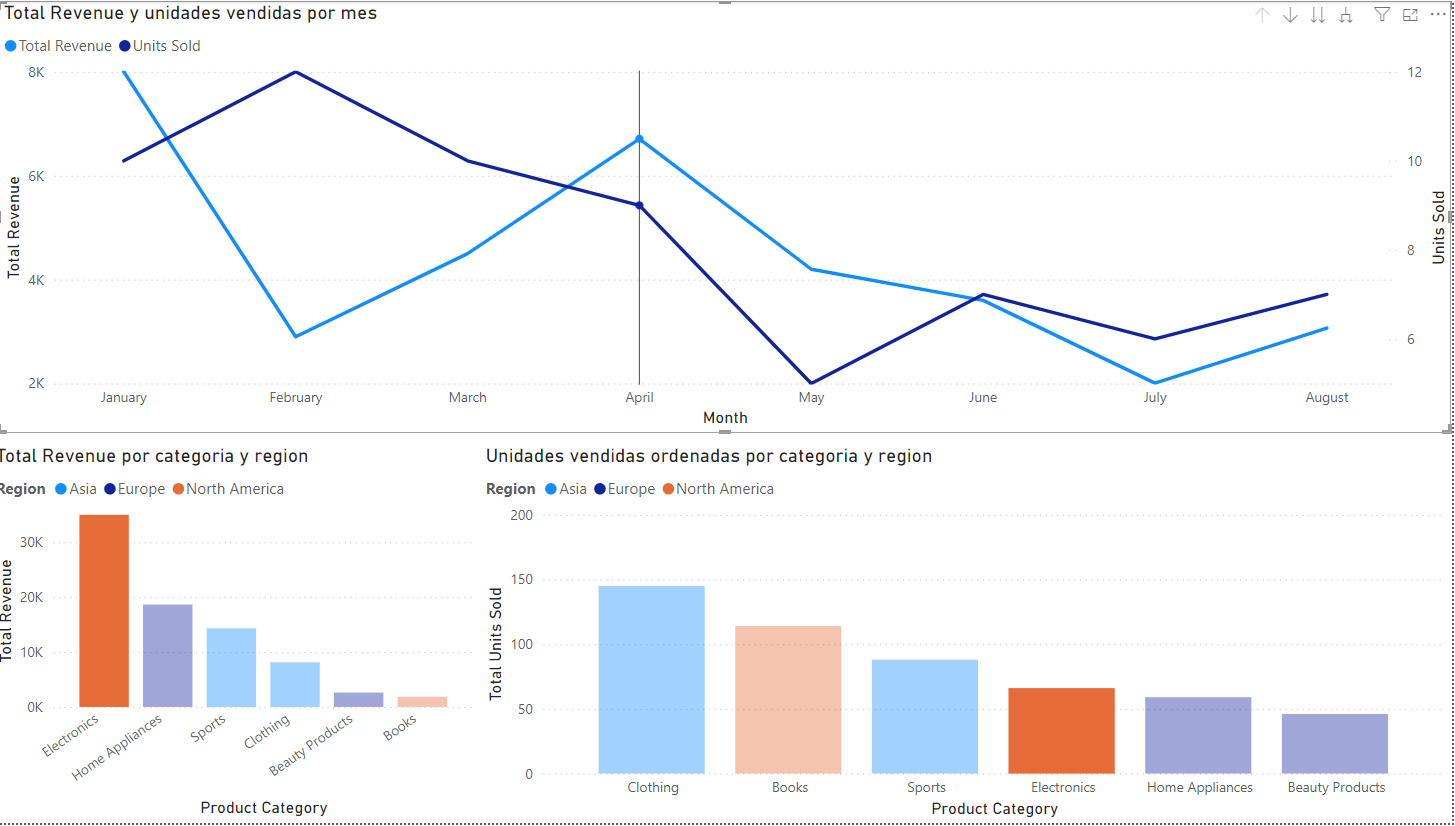

The page's visual inventory and layout, read from the dashboard file:
{"tool":"powerbi","page":{"name":"Page 1","canvas":[1280,720],"ordinal":0},"visuals":[{"type":"lineChart","title":"Total Revenue y unidades vendidas por mes","fields":{"Y":["Sum(Online Sales Data.Total Revenue)"],"Category":["Online Sales Data.Date.Variation.Date Hierarchy.Month","Online Sales Data.Date.Variation.Date Hierarchy.Day"],"Y2":["Sum(Online Sales Data.Units Sold)"]},"box":[6.8,0,1273.2,378.4],"z":0},{"type":"columnChart","title":"Total Revenue por categoria y region","fields":{"Category":["Online Sales Data.Product Category"],"Y":["Sum(Online Sales Data.Total Revenue)"],"Series":["Online Sales Data.Region"]},"box":[0,388.1,428.9,331.7],"z":1000},{"type":"columnChart","title":"Unidades vendidas ordenadas por categoria y region","fields":{"Category":["Online Sales Data.Product Category"],"Y":["Sum(Online Sales Data.Units Sold)"],"Series":["Online Sales Data.Region"]},"box":[429.2,387.2,850.5,332],"z":2000}]}

Visuals, with their boxes in screenshot pixels (x1, y1, x2, y2), scaled from the page's 1280x720 canvas onto the 1455x826 screenshot:
"Total Revenue y unidades vendidas por mes" lineChart: 8, 0, 1454, 434
"Total Revenue por categoria y region" columnChart: 0, 445, 488, 825
"Unidades vendidas ordenadas por categoria y region" columnChart: 488, 444, 1454, 825
